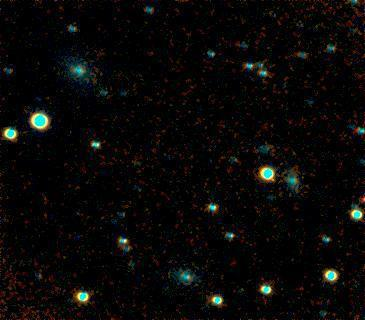star: (259, 165, 289, 195)
